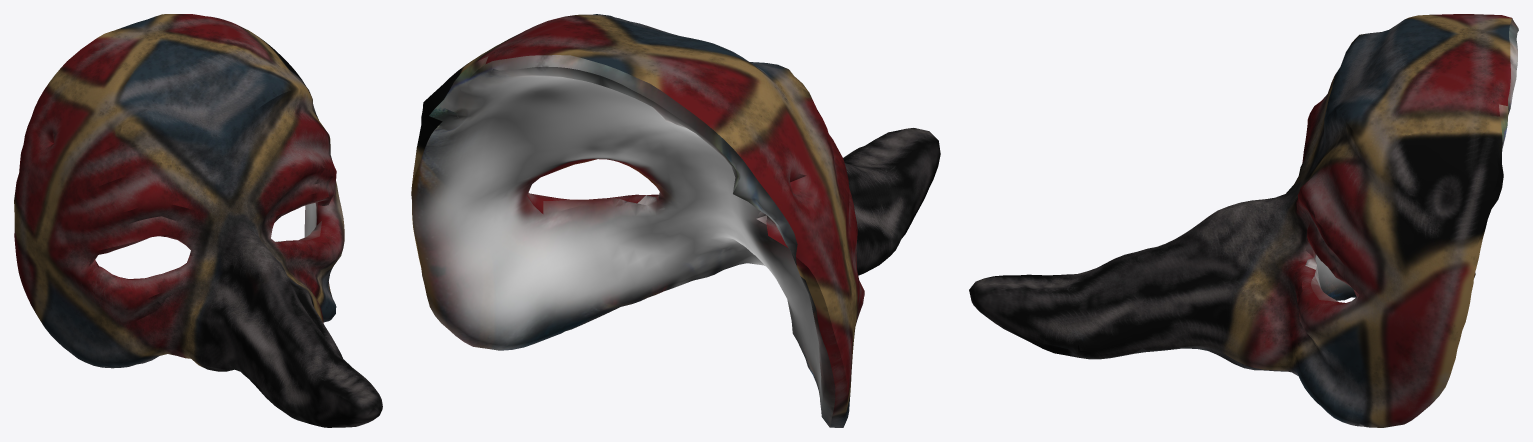
File: mask_60702d5f.glb
3 views of the same model, side by side, from view 1: azimuth 30°, elevation 25°; view 2: azimuth 150°, elevation 25°; view 3: azimuth 270°, elevation 25° (orthographic). The views are drawn at different scales.
Parts seen in each view (by area): view 1: Mesh_Default Material_0; view 2: Mesh_Default Material_0; view 3: Mesh_Default Material_0.
Boxes of the visible parts, bbox=[...] form: Mesh_Default Material_0: bbox=[14, 14, 382, 427]; Mesh_Default Material_0: bbox=[411, 14, 940, 427]; Mesh_Default Material_0: bbox=[969, 14, 1518, 427].
Size of the model in its own units: 6.28 by 5.48 by 8.42.
Materials: 1 (1 with a texture image).
